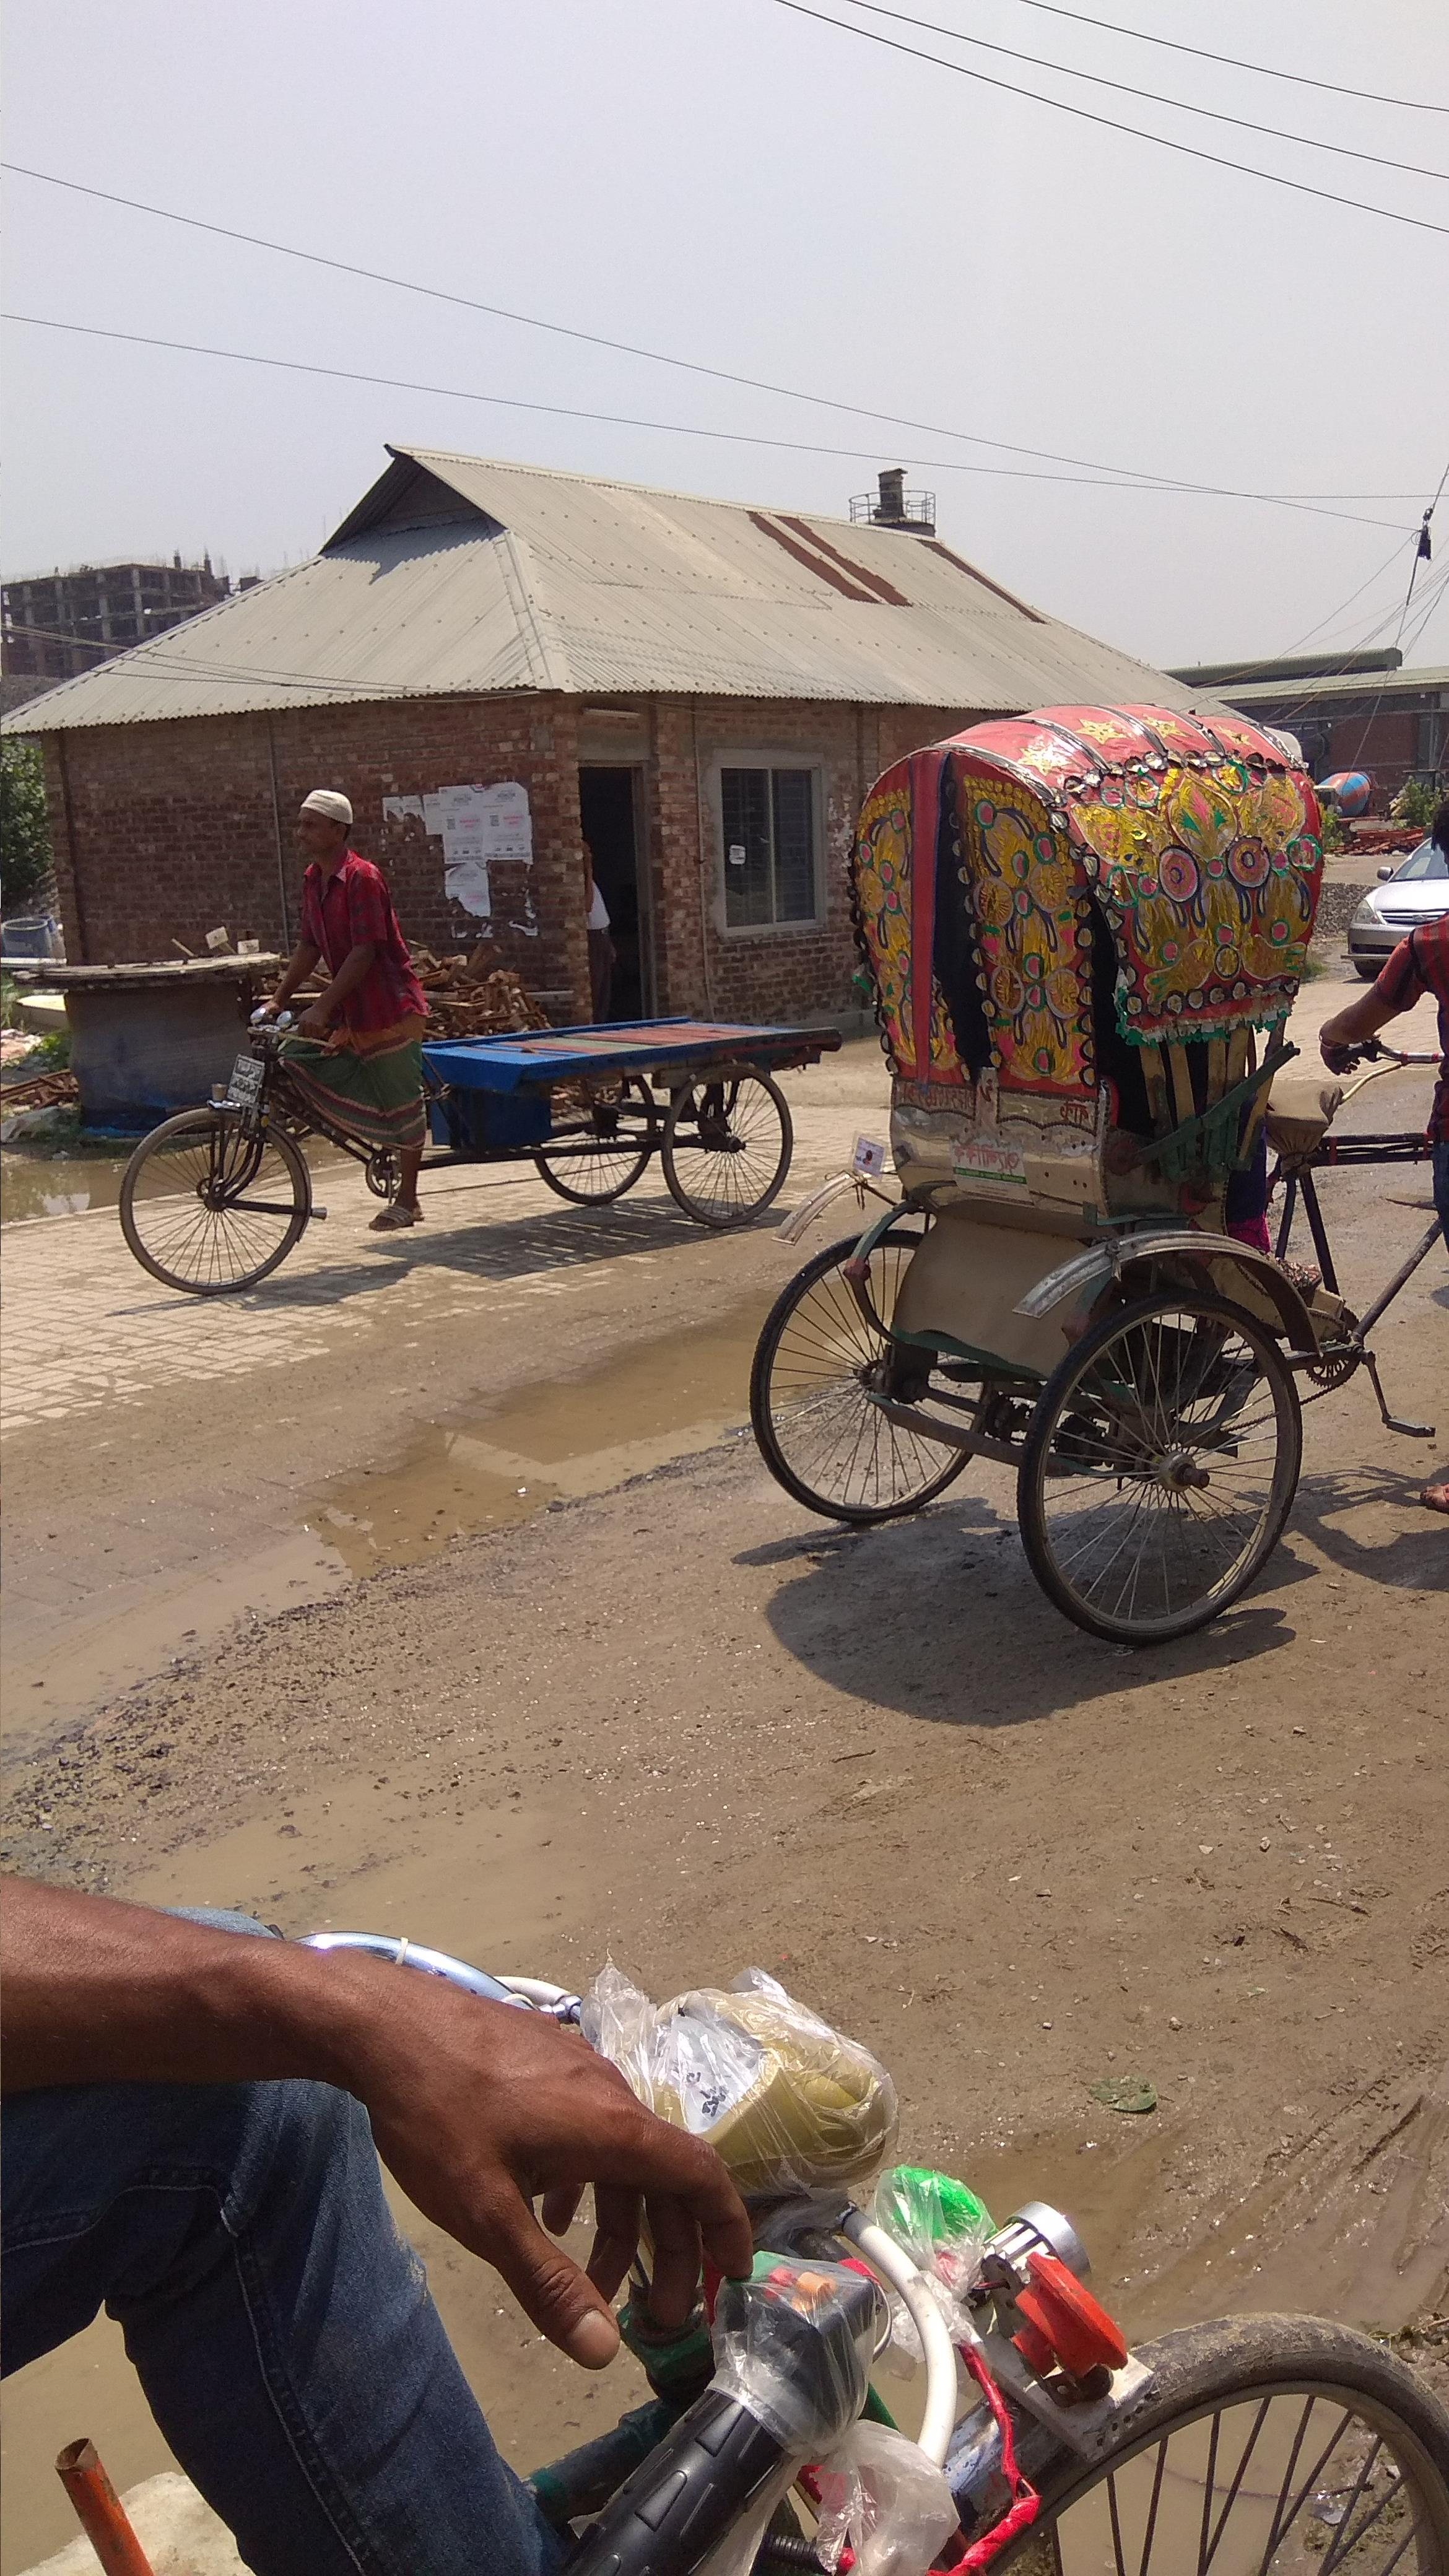Rickshaw: (752, 644, 1405, 1624)
